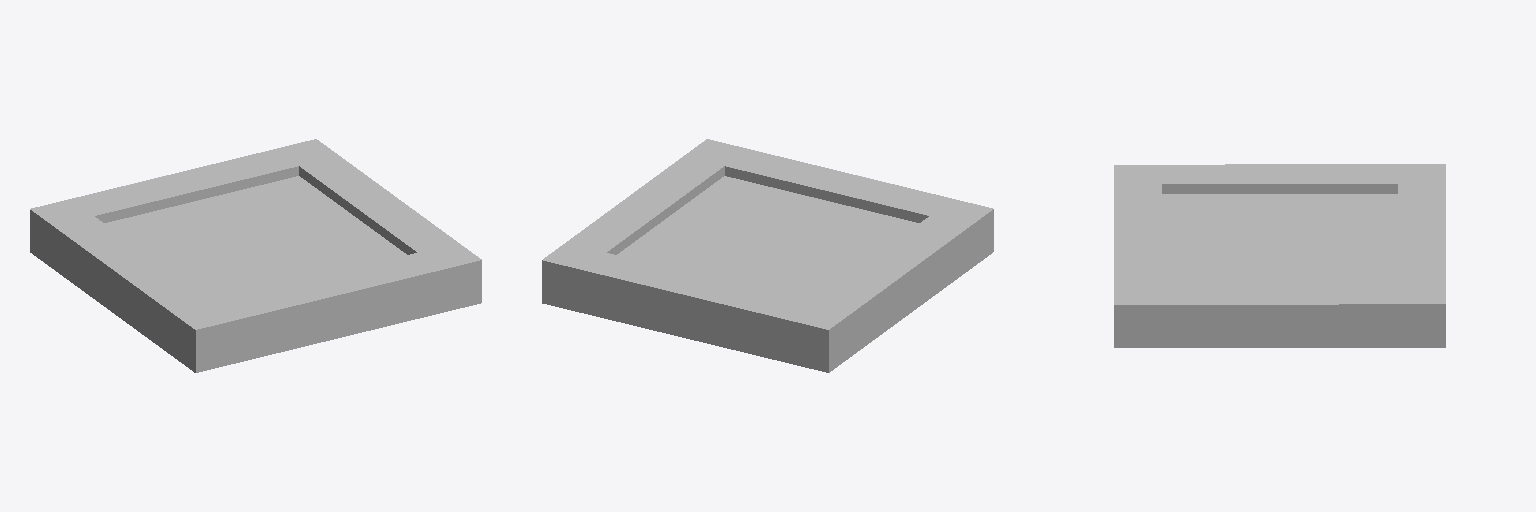
File: caja_tapa2.obj
3 renders of one model, left to right at view 1: azimuth 30°, elevation 25°; view 2: azimuth 150°, elevation 25°; view 3: azimuth 270°, elevation 25°, orthographic.
Parts seen in each view (by area): view 1: tapa1; view 2: tapa1; view 3: tapa1.
Boxes of the visible parts, <box> form: tapa1: <box>30,139,481,372</box>; tapa1: <box>542,139,993,372</box>; tapa1: <box>1114,164,1445,347</box>.
Size of the model in its own units: 30.03 by 4.32 by 30.03.